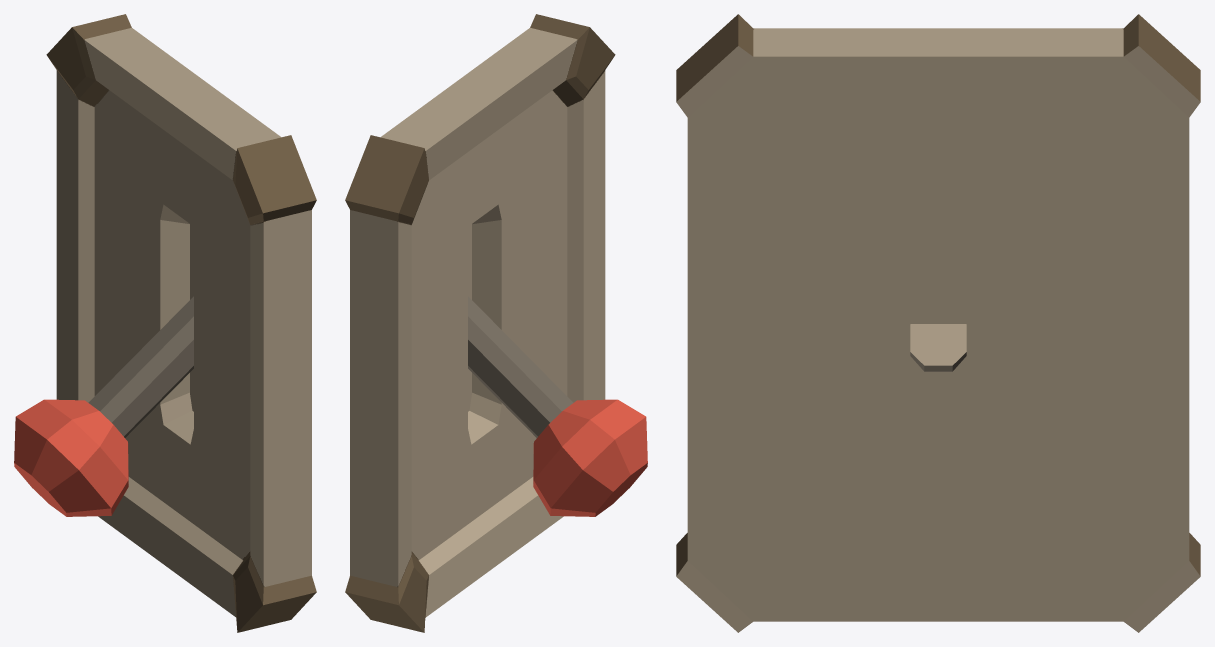
Rendered from lever OFF.fbx.
3 renders of one model, left to right at view 1: azimuth 30°, elevation 25°; view 2: azimuth 150°, elevation 25°; view 3: azimuth 270°, elevation 25°, orthographic. The views are drawn at different scales.
Parts seen in each view (by area): view 1: switch_OFFShape; view 2: switch_OFFShape; view 3: switch_OFFShape.
Boxes of the visible parts, x1,y1,x2,y2 form: switch_OFFShape: (14, 14, 316, 632); switch_OFFShape: (345, 14, 647, 632); switch_OFFShape: (676, 14, 1200, 632).
Size of the model in its own units: 37.7 by 85.75 by 69.44.
1 material, 1 textured.
